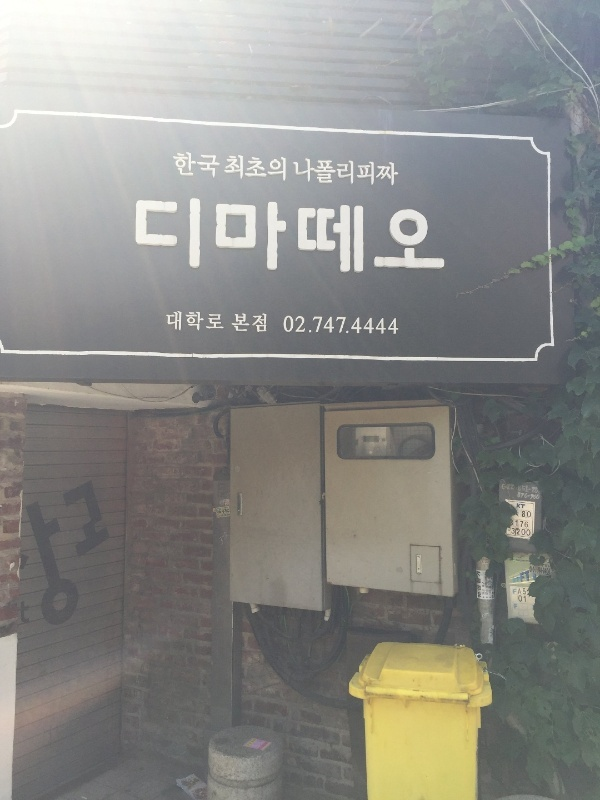text: (33, 476, 48, 657), (49, 476, 64, 657), (65, 476, 80, 657), (81, 476, 96, 657), (97, 476, 112, 657), (23, 476, 32, 657), (145, 191, 160, 282), (161, 191, 176, 282), (177, 191, 192, 282), (193, 191, 208, 282), (209, 191, 224, 282), (225, 191, 240, 282), (241, 191, 256, 282), (257, 191, 272, 282), (273, 191, 288, 282), (289, 191, 304, 282), (305, 191, 320, 282), (321, 191, 336, 282), (337, 191, 352, 282), (353, 191, 368, 282), (369, 191, 384, 282), (385, 191, 400, 282), (401, 191, 416, 282), (417, 191, 432, 282), (433, 191, 448, 282), (133, 191, 144, 282), (113, 476, 117, 657), (305, 157, 320, 187), (321, 157, 336, 187), (337, 157, 352, 187), (353, 157, 368, 187), (369, 157, 384, 187), (177, 151, 192, 179), (193, 151, 208, 179), (225, 154, 240, 182), (241, 154, 256, 182), (257, 154, 272, 182), (385, 157, 399, 187), (209, 311, 225, 334), (273, 154, 286, 182), (177, 311, 192, 334), (193, 311, 208, 334), (385, 315, 401, 336), (293, 157, 304, 187), (241, 313, 256, 334), (289, 315, 304, 336), (305, 315, 320, 336), (321, 315, 336, 336), (337, 315, 352, 336), (353, 315, 368, 336), (369, 315, 384, 336), (209, 151, 220, 179), (257, 313, 268, 334), (166, 311, 176, 334), (231, 313, 240, 334), (513, 527, 528, 537), (513, 519, 528, 528), (476, 571, 480, 600), (283, 315, 288, 336), (520, 570, 528, 583), (529, 491, 540, 500), (529, 485, 540, 494), (513, 589, 528, 595), (518, 588, 528, 597), (518, 491, 528, 500), (518, 485, 528, 494), (514, 604, 528, 610), (173, 151, 176, 179), (502, 483, 512, 491), (518, 596, 528, 603), (517, 503, 528, 509), (522, 510, 528, 518), (481, 571, 482, 600), (529, 510, 532, 518), (529, 527, 531, 537), (529, 588, 531, 597), (510, 519, 512, 528), (513, 483, 515, 491)
